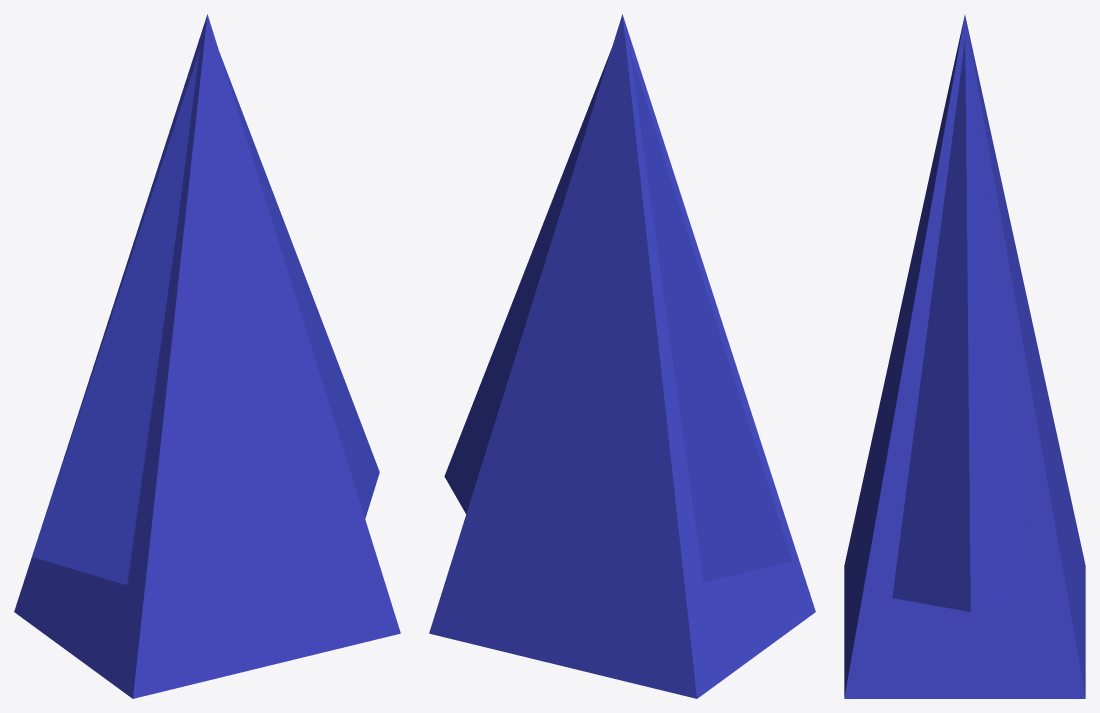
Rendered from boid.fbx.
3 views of the same model, side by side, from view 1: azimuth 30°, elevation 25°; view 2: azimuth 150°, elevation 25°; view 3: azimuth 270°, elevation 25° (orthographic).
Parts seen in each view (by area): view 1: root (×3); view 2: root (×3); view 3: root (×2).
Boxes of the visible parts, bbox=[...] form: root (×3): bbox=[14, 14, 400, 698]; root (×3): bbox=[429, 14, 815, 698]; root (×2): bbox=[844, 15, 1085, 698].
Size of the model in its own units: 0.1083 by 0.181 by 0.064.
2 materials, 1 textured.
